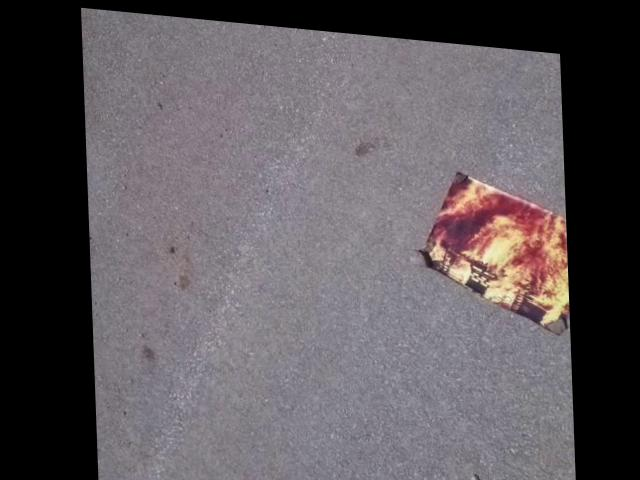fire-poster: (405, 155, 567, 326)
